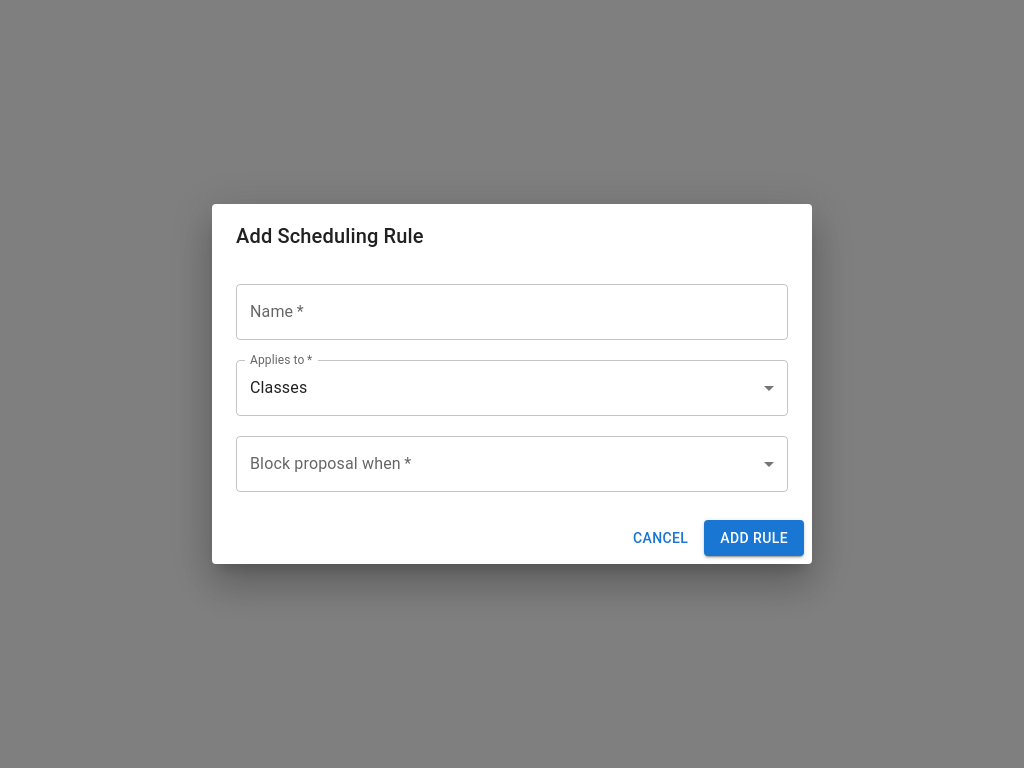
Test case: AddConstraintDialog › does not render a limit field for a structural violation condition
Press the mouse on the dropdown named "block proposal when": coordinates (512, 464) left=236, top=436, right=788, bottom=492
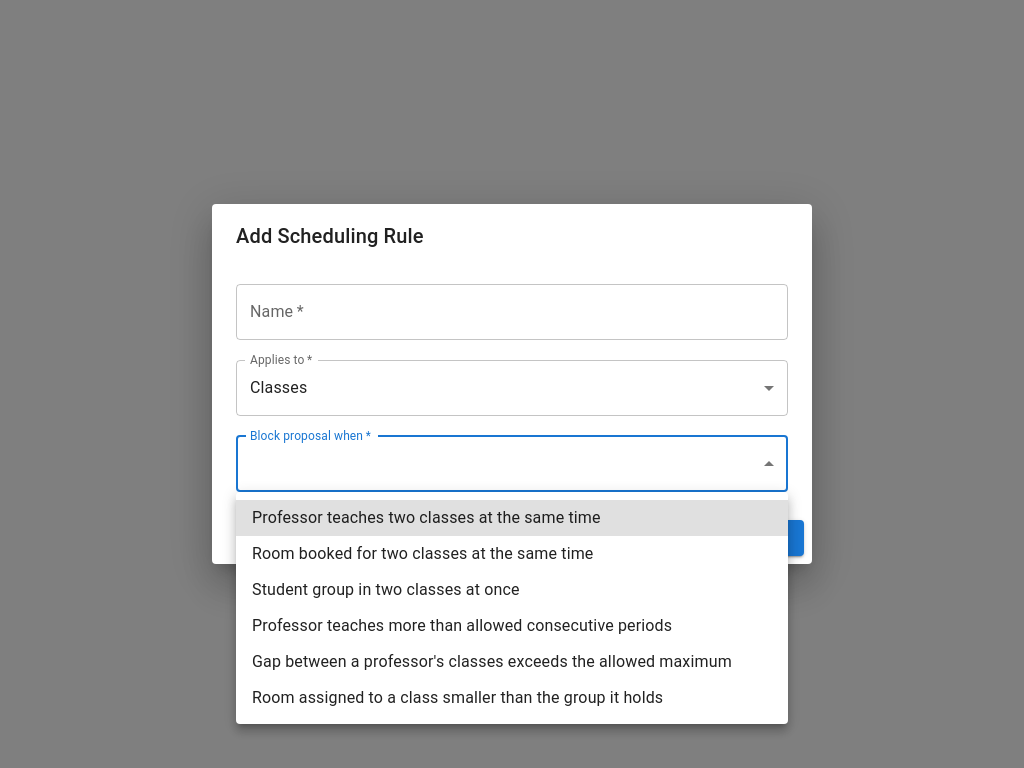
Now the option "Professor teaches two classes at the same time" is shown
Click the option "Professor teaches two classes at the same time": coordinates (512, 518) left=236, top=500, right=788, bottom=536
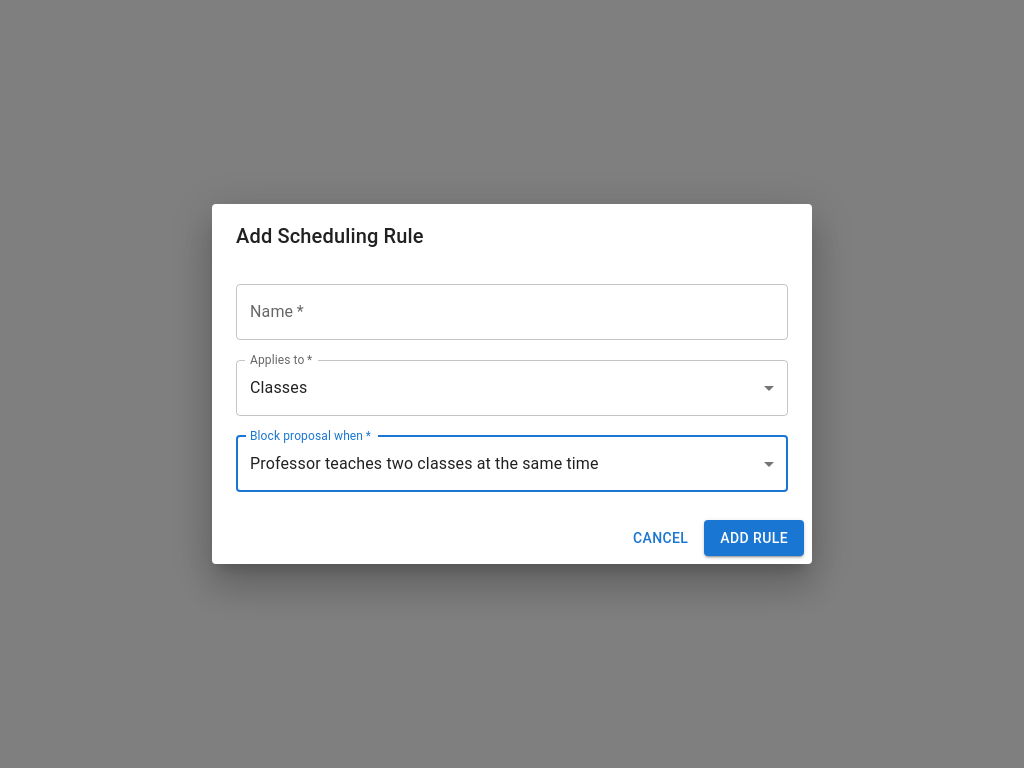
Now the list is gone
